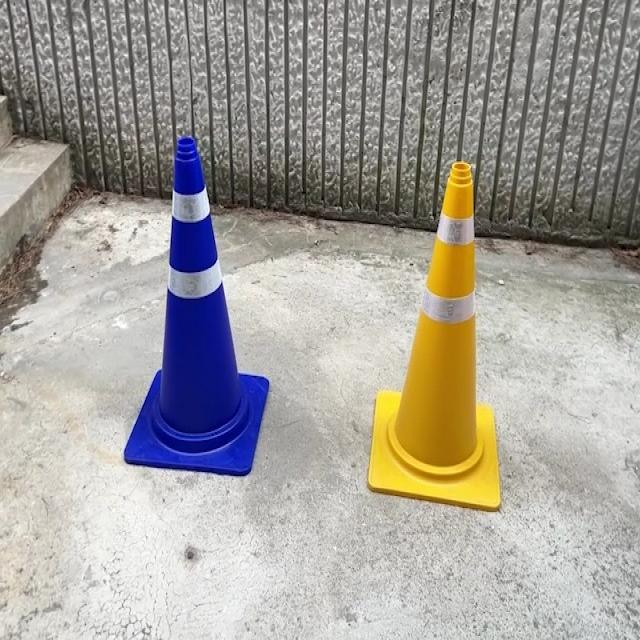b_rub: (124, 136, 269, 475)
y_rub: (369, 161, 502, 510)
